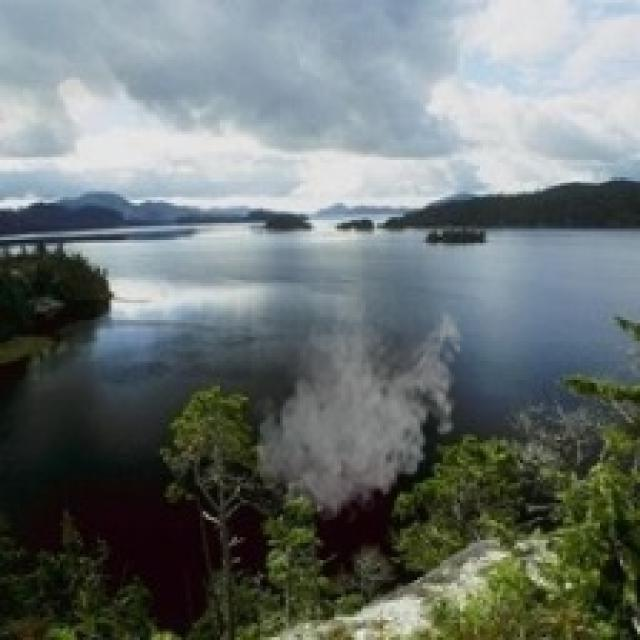smoke: (248, 283, 468, 528)
